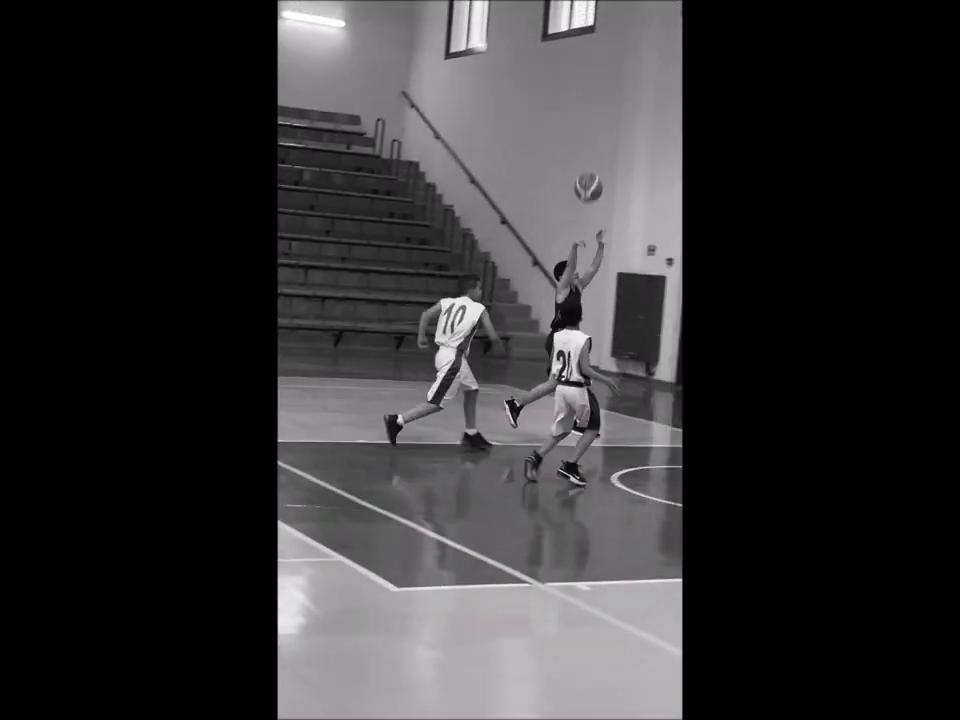ball: (573, 168, 606, 202)
human: (504, 224, 610, 438), (383, 267, 499, 456), (522, 295, 618, 490)
